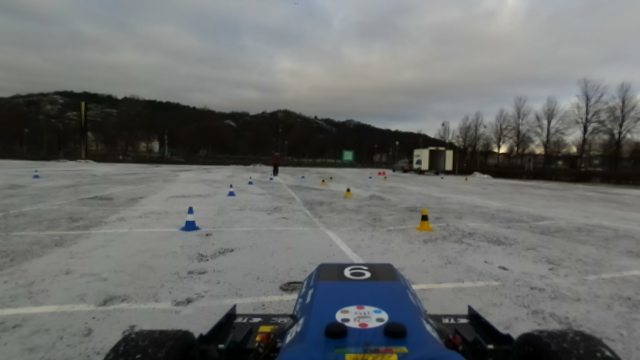blue: (178, 204, 202, 233)
yellow: (415, 206, 433, 233)
